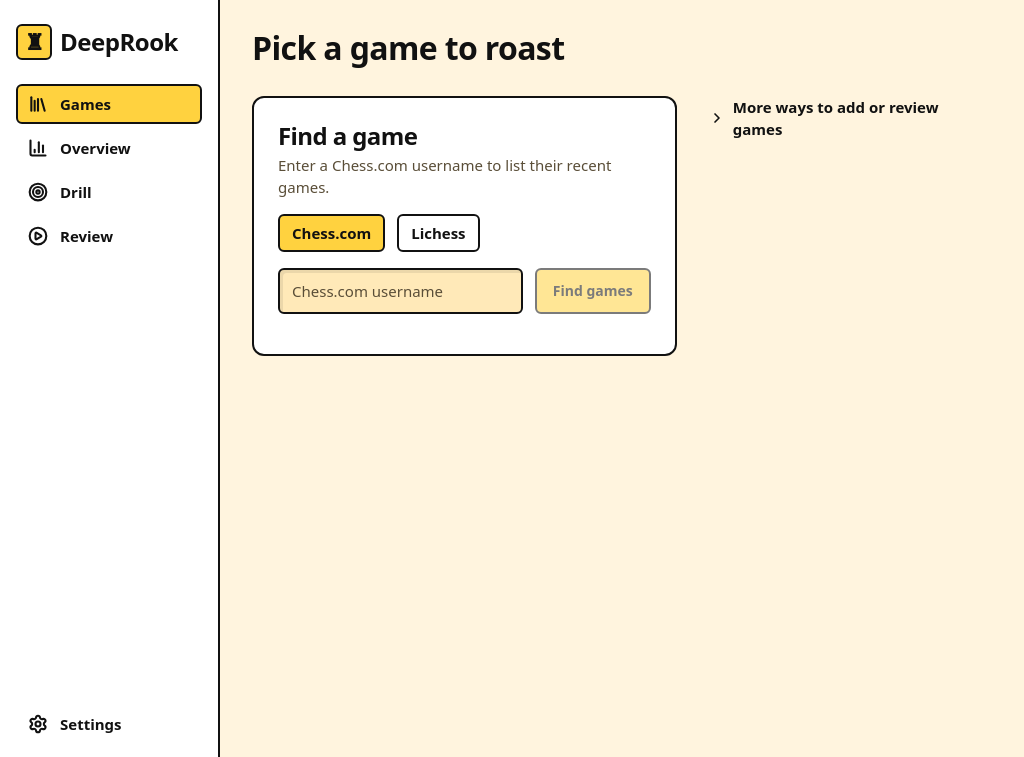
it: three straight losses get a coach word, and Review last loss stages the latest
This screenshot has width=1024, height=757.
Type "Me" into the field labelled "Chess.com username" at {"x": 400, "y": 291}, box [278,268,523,314]
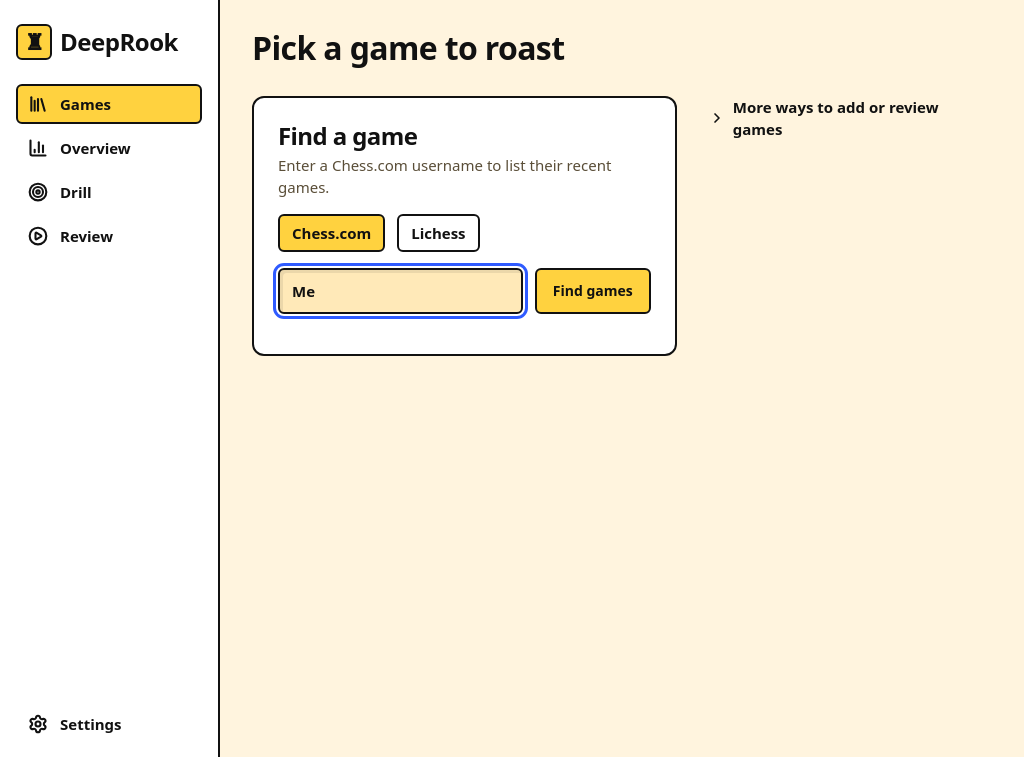
Click the button "Find games" at {"x": 593, "y": 291}, box [535,268,651,314]
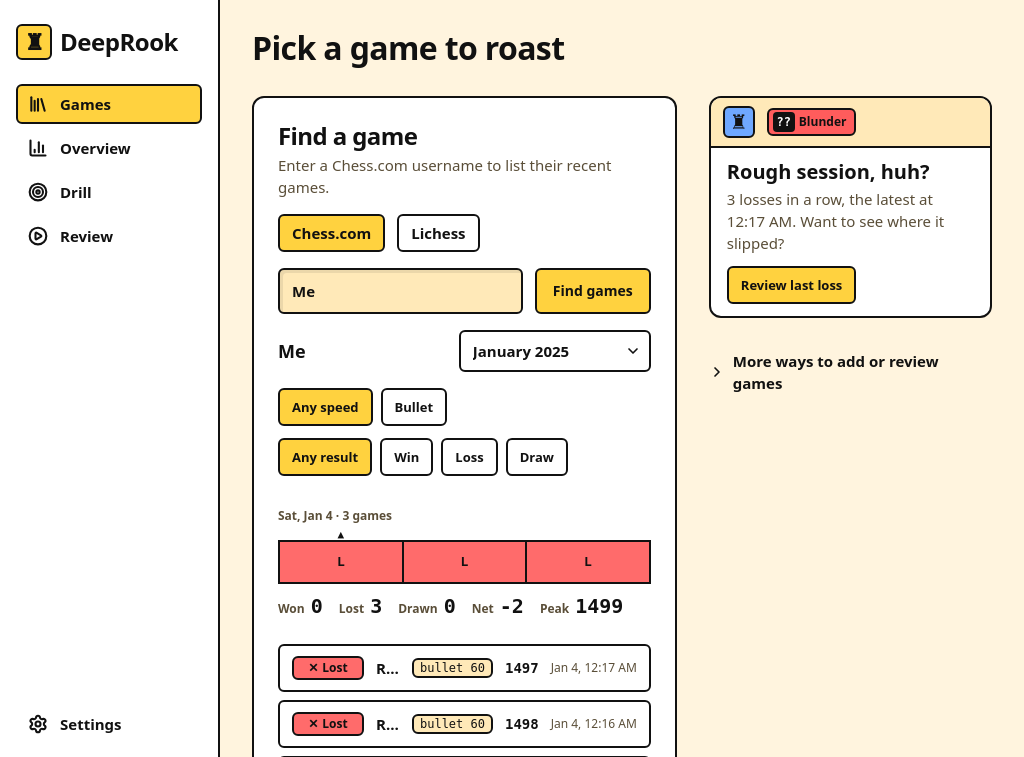
Result: the element named "Coach" shows "3 losses in a row" at [709,96,992,318]
Click the button "Review last loss" at {"x": 792, "y": 285}, box [727,266,856,304]
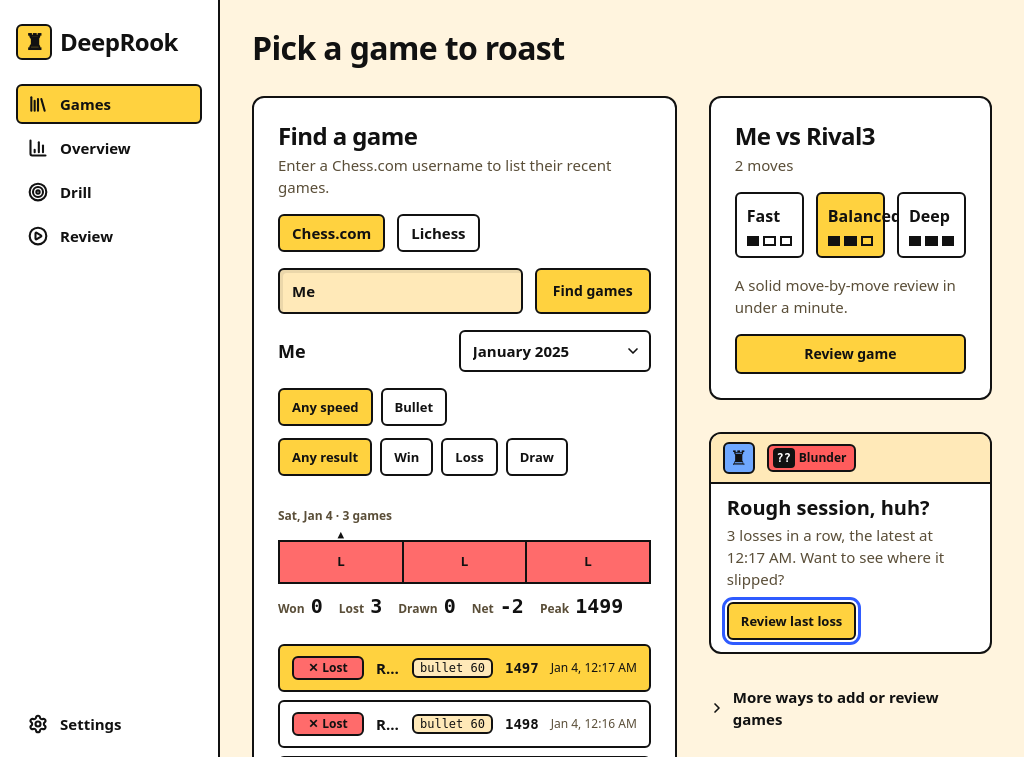
Result: the heading "Me vs Rival3" is shown at [735,119,875,152]
